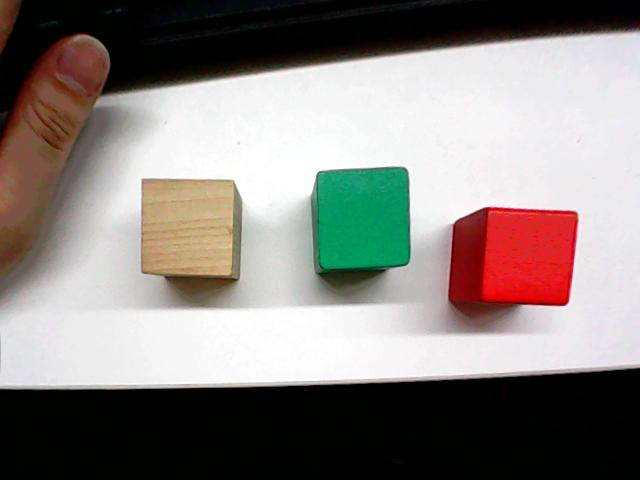green_box: (308, 162, 413, 276)
raw_box: (137, 174, 244, 282)
red_box: (445, 201, 581, 315)
